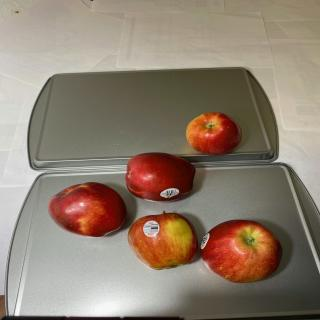Apple: (200, 220, 283, 284), (47, 182, 127, 238), (128, 211, 198, 270), (125, 152, 196, 202), (186, 112, 242, 155)
